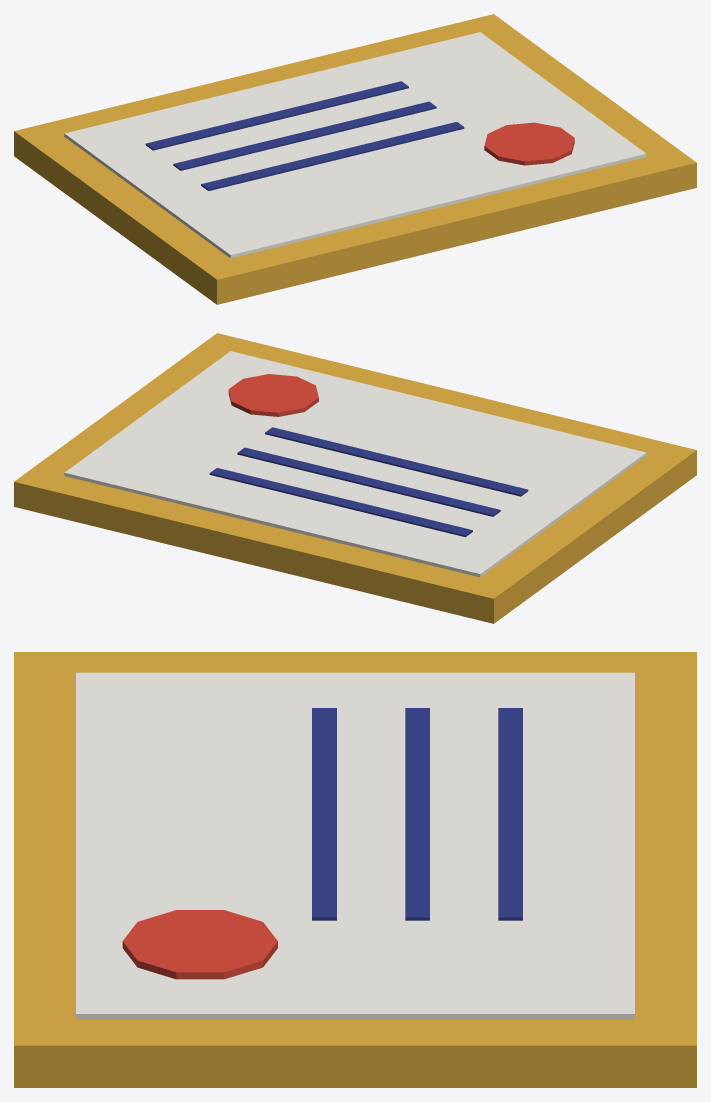
The model's file is contest_diploma.glb.
The picture shows the model from 3 angles, top to bottom: view 1: azimuth 30°, elevation 25°; view 2: azimuth 150°, elevation 25°; view 3: azimuth 270°, elevation 25°; orthographic projection. The views are drawn at different scales.
Parts seen in each view (by area): view 1: paper_photo_white, frame_gold_shiny, line_ink_blue (×3), ribbon_logo_red; view 2: paper_photo_white, frame_gold_shiny, line_ink_blue (×3), ribbon_logo_red; view 3: paper_photo_white, frame_gold_shiny, line_ink_blue (×3), ribbon_logo_red.
Boxes of the visible parts, x1=… form: paper_photo_white: x1=64, y1=32, x2=646, y2=258; frame_gold_shiny: x1=14, y1=14, x2=696, y2=304; line_ink_blue (×3): x1=145, y1=81, x2=464, y2=190; ribbon_logo_red: x1=484, y1=122, x2=574, y2=165; paper_photo_white: x1=64, y1=351, x2=646, y2=577; frame_gold_shiny: x1=14, y1=333, x2=696, y2=623; line_ink_blue (×3): x1=209, y1=427, x2=528, y2=537; ribbon_logo_red: x1=228, y1=374, x2=318, y2=416; paper_photo_white: x1=76, y1=672, x2=634, y2=1019; frame_gold_shiny: x1=14, y1=652, x2=696, y2=1087; line_ink_blue (×3): x1=312, y1=708, x2=522, y2=920; ribbon_logo_red: x1=122, y1=910, x2=277, y2=979.
Bounding box in the file's own units: 0.3 × 0.0195 × 0.22.
